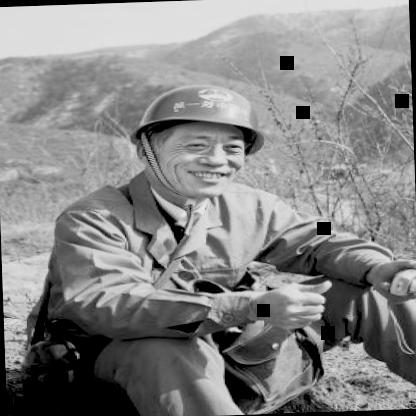helmet: (115, 66, 283, 205)
